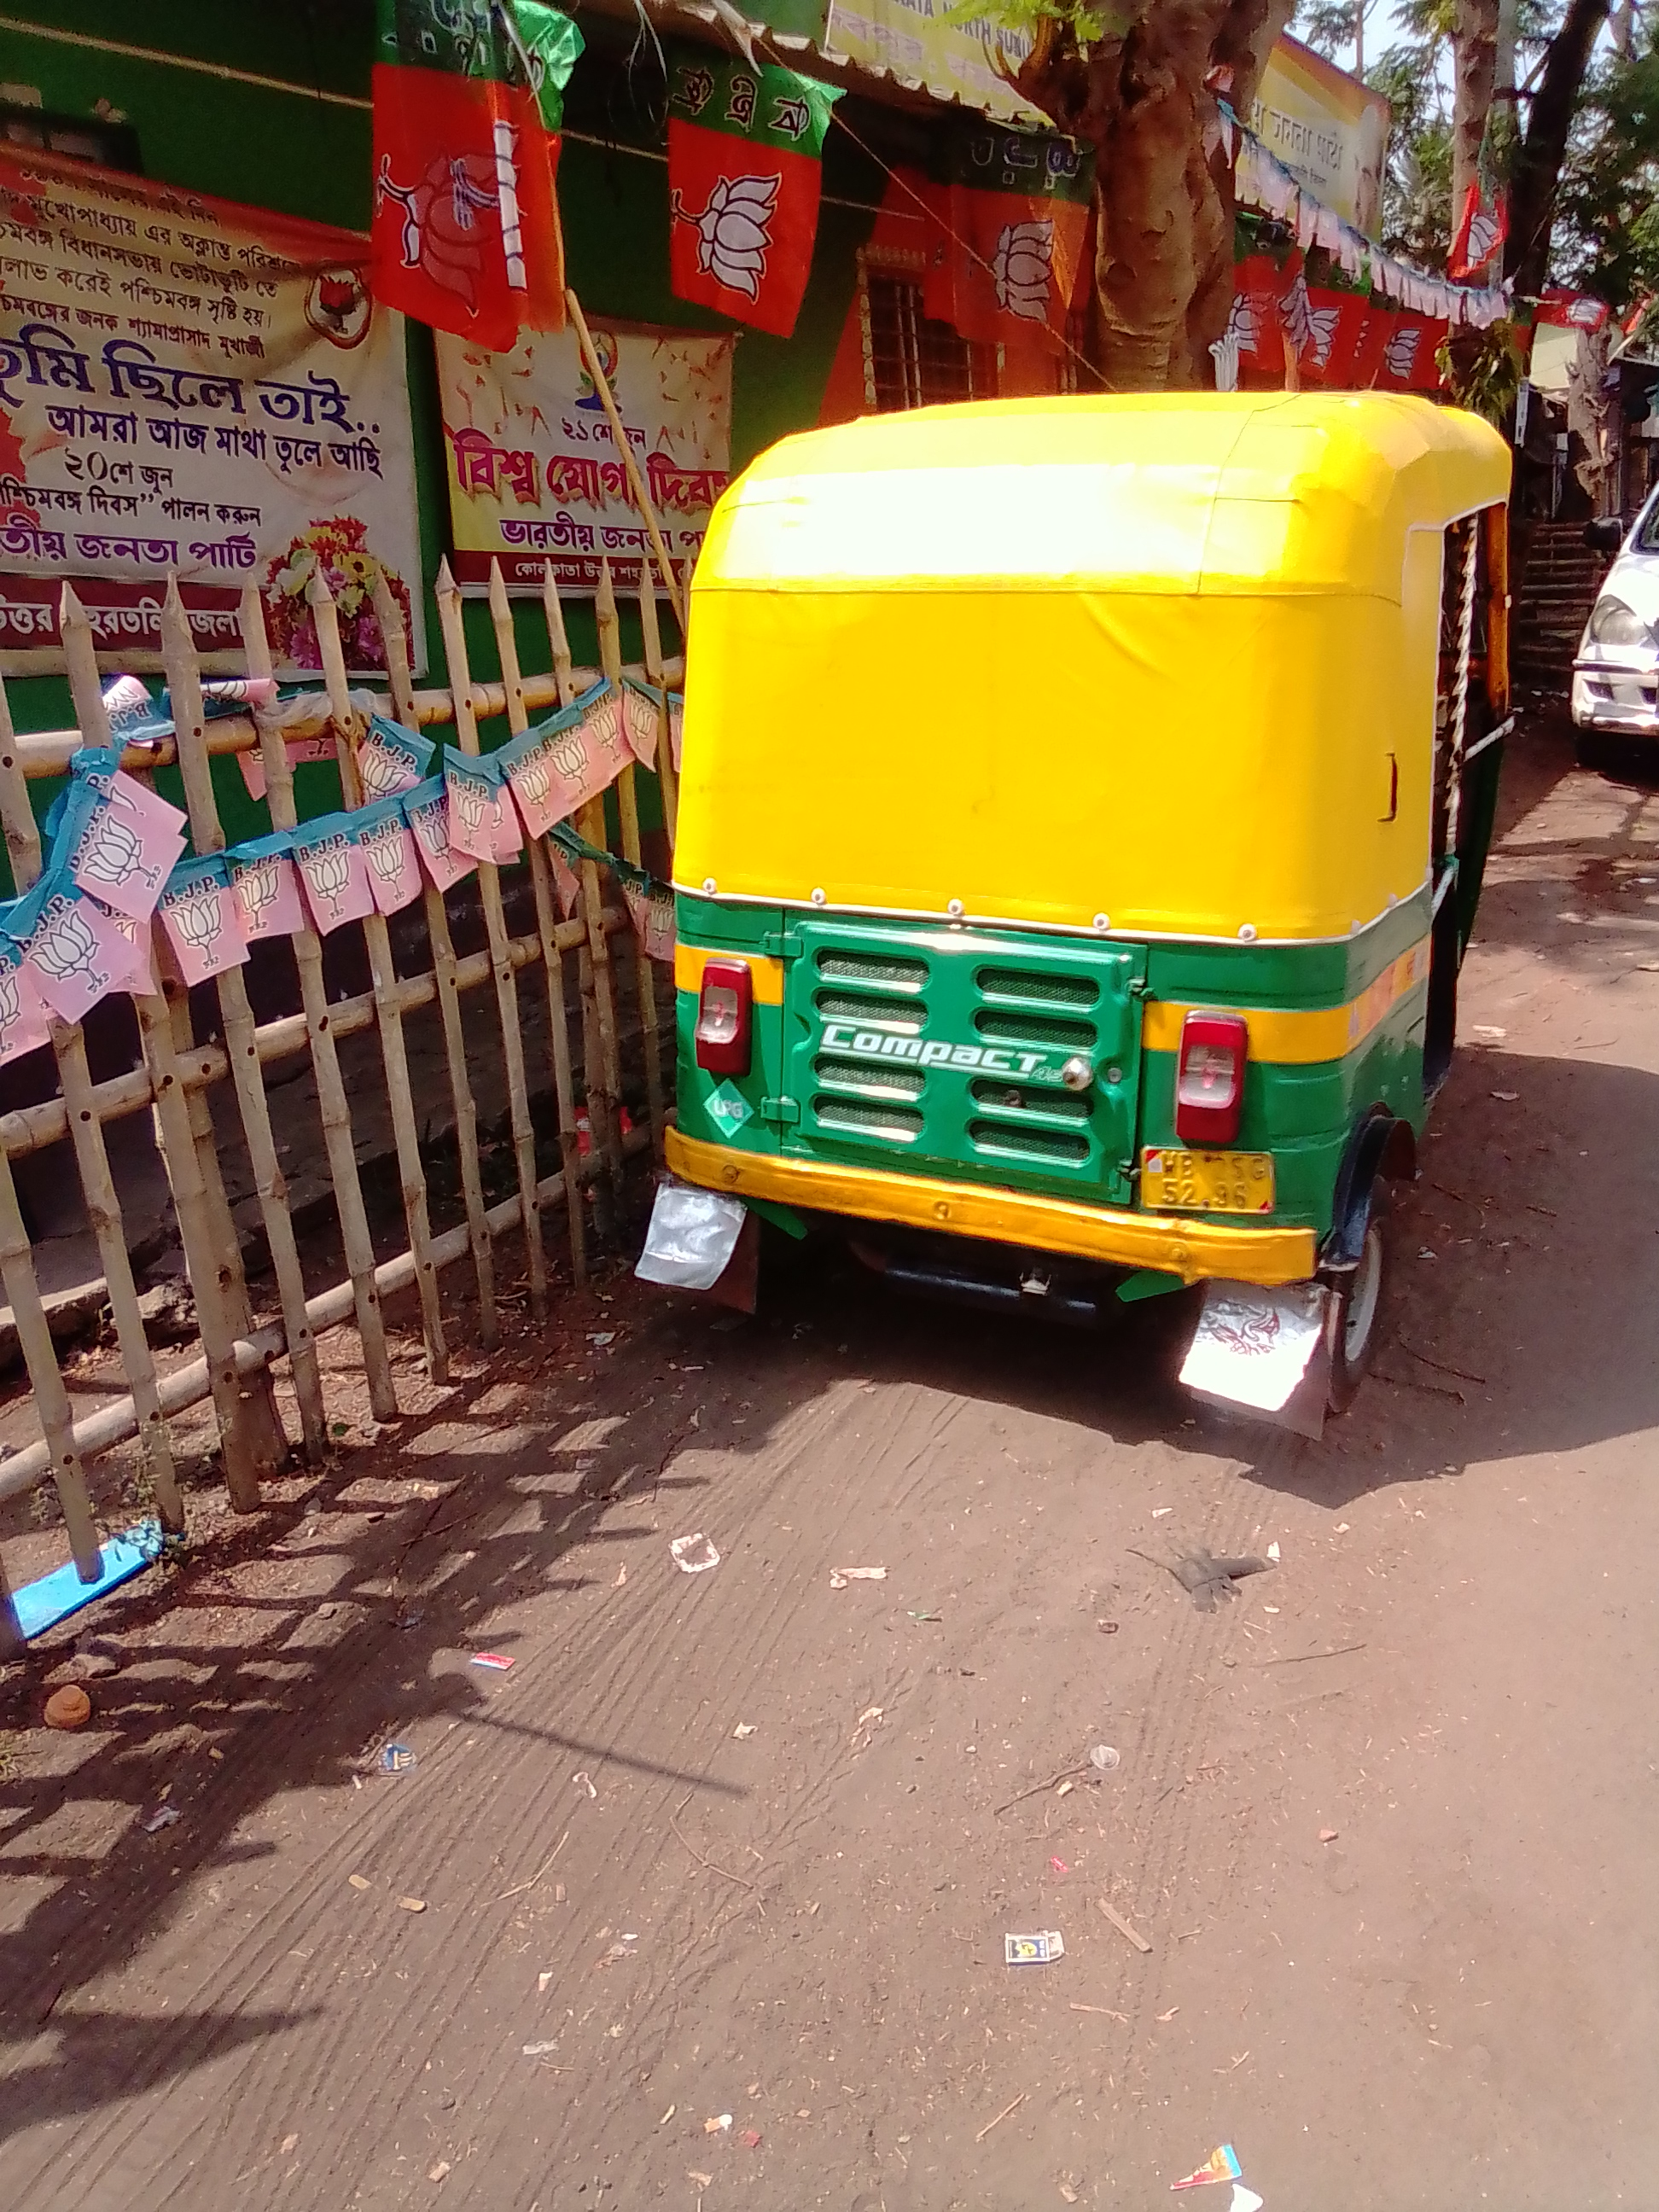auto: (656, 378, 1494, 1472)
number_plate: (1129, 1136, 1275, 1233)
